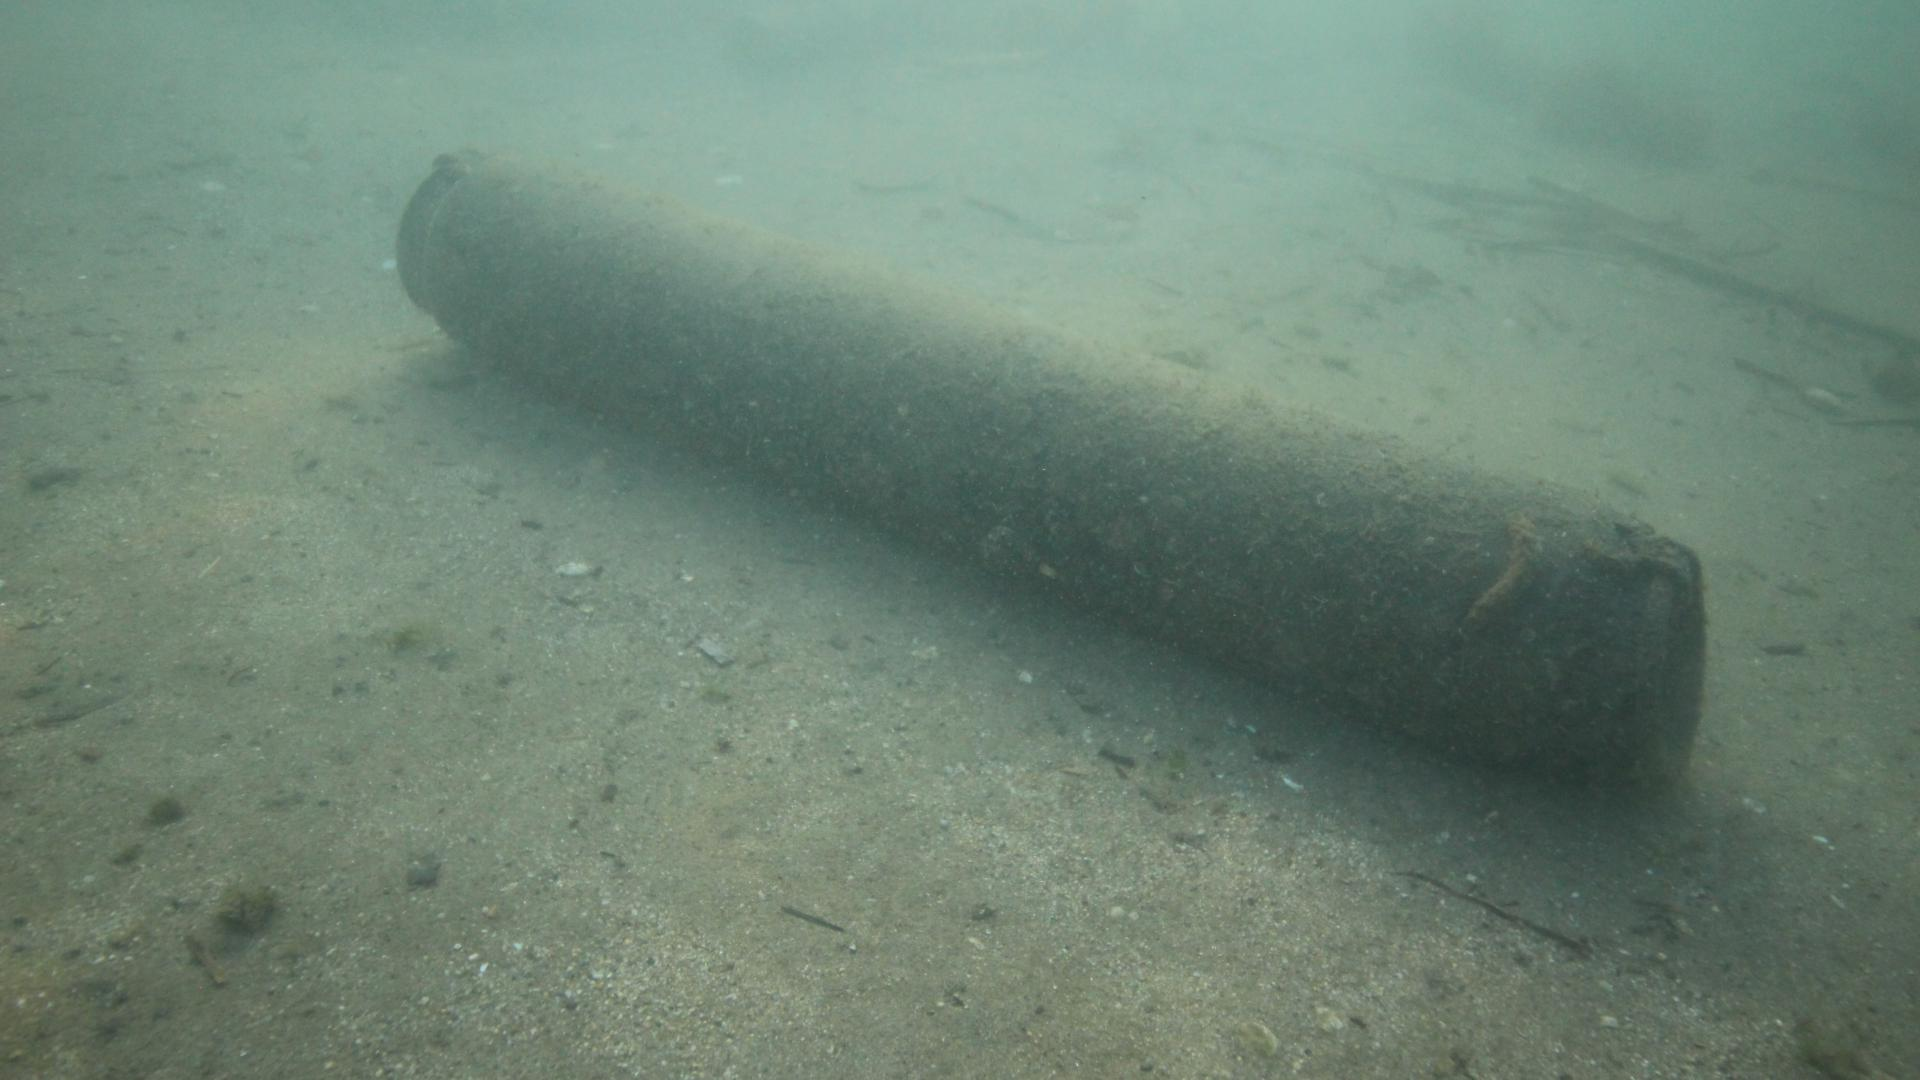eel fish trap: (394, 145, 1706, 785)
